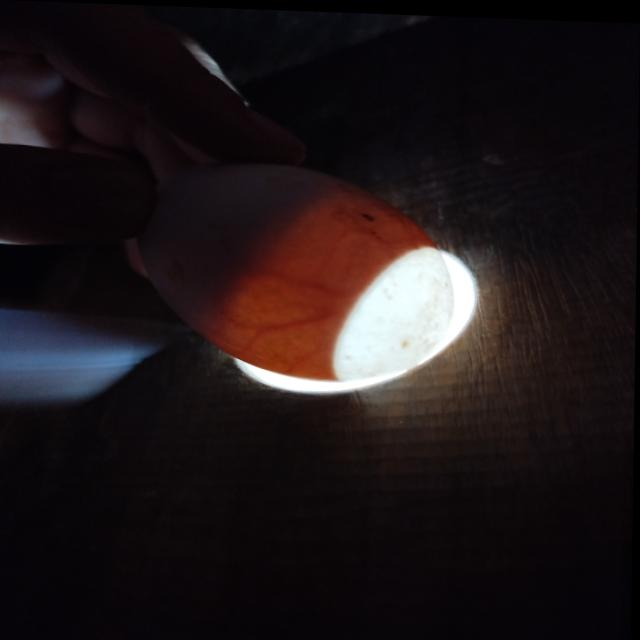Embriao: (140, 162, 334, 335)
